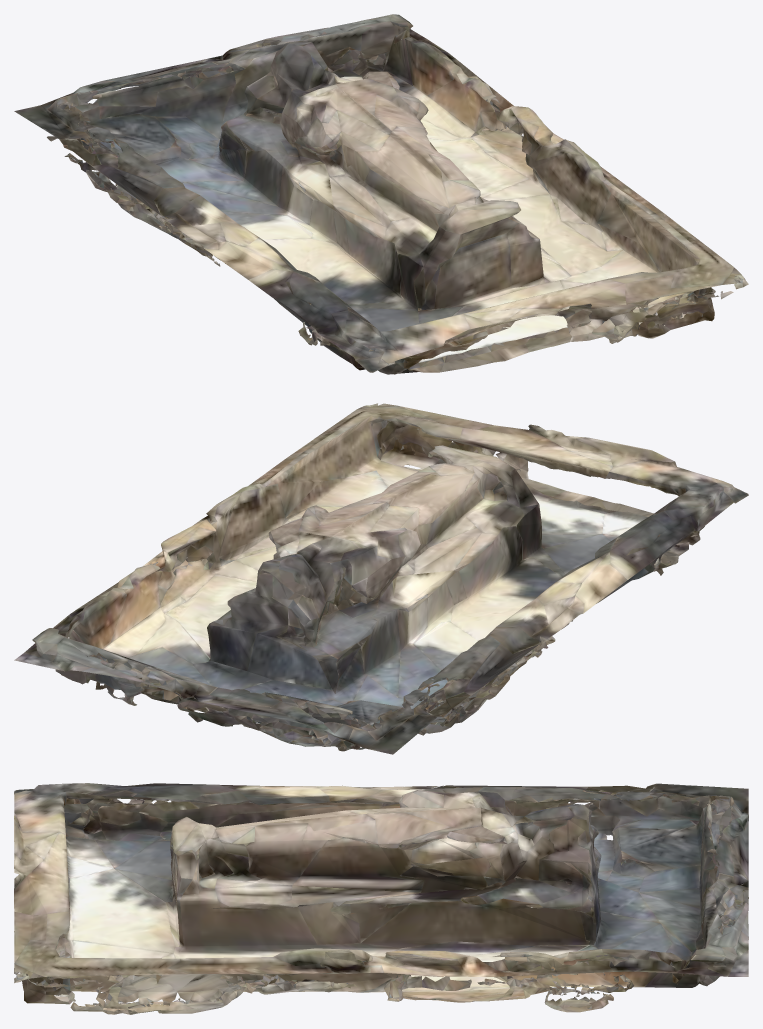
Rendered from reclining-figure.glb.
3 views of the same model, one above another, from view 1: azimuth 30°, elevation 25°; view 2: azimuth 150°, elevation 25°; view 3: azimuth 270°, elevation 25° (orthographic). The views are drawn at different scales.
Visible parts, largest first — view 1: Object_3; view 2: Object_3; view 3: Object_3.
Part boxes in pixels (box(x1,y1,x2,y2)): Object_3: box(14, 14, 748, 374); Object_3: box(14, 403, 748, 754); Object_3: box(14, 783, 748, 1014).
Bounding box in the file's own units: 3.38 × 1.06 × 5.51.
Materials: 1 (1 with a texture image).
